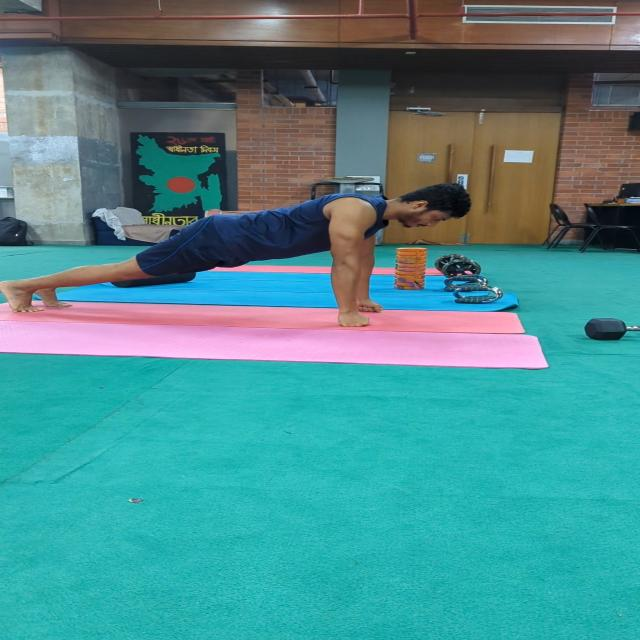Normal_PushUps: (6, 180, 477, 343)
